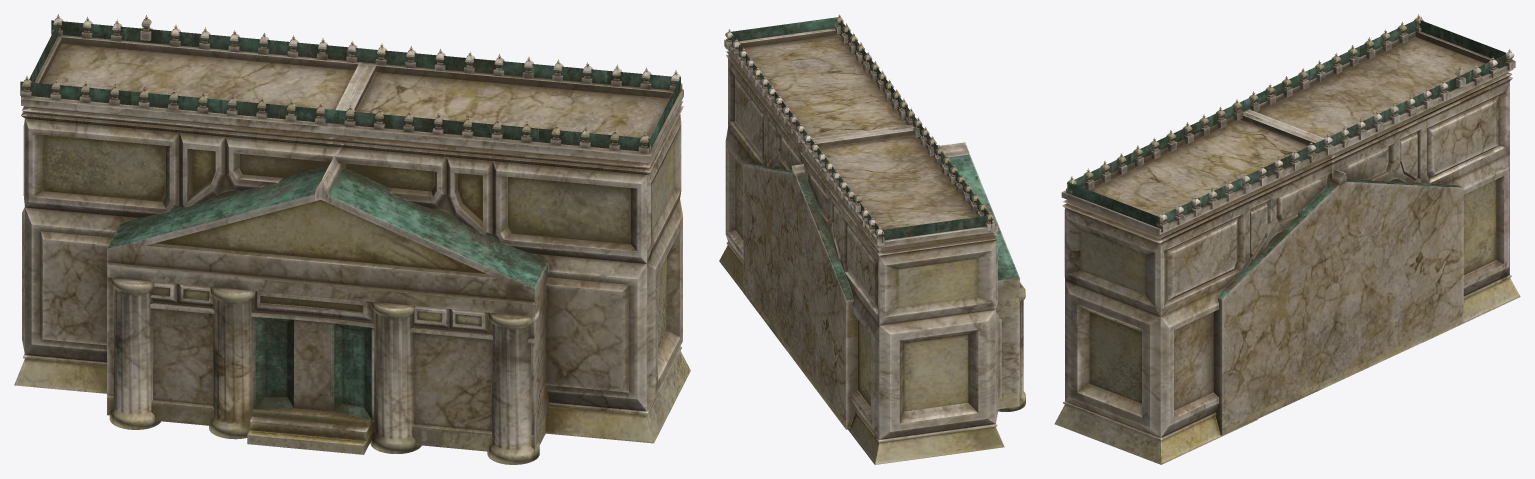
The model's file is oldbank.glb.
3 views of the same model, side by side, from view 1: azimuth 30°, elevation 25°; view 2: azimuth 150°, elevation 25°; view 3: azimuth 270°, elevation 25° (orthographic). The views are drawn at different scales.
Visible parts, largest first — view 1: Bank__0; view 2: Bank__0; view 3: Bank__0.
Part boxes in pixels (box(x1,y1,x2,y2)): Bank__0: box(14, 14, 690, 464); Bank__0: box(719, 14, 1025, 464); Bank__0: box(1054, 14, 1520, 464).
Bounding box in the file's own units: 40435 × 23190 × 38148.
1 material, 1 textured.
